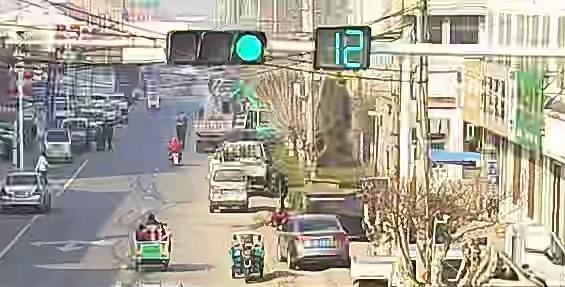green: (234, 33, 267, 59)
greentime: (326, 29, 368, 71)
